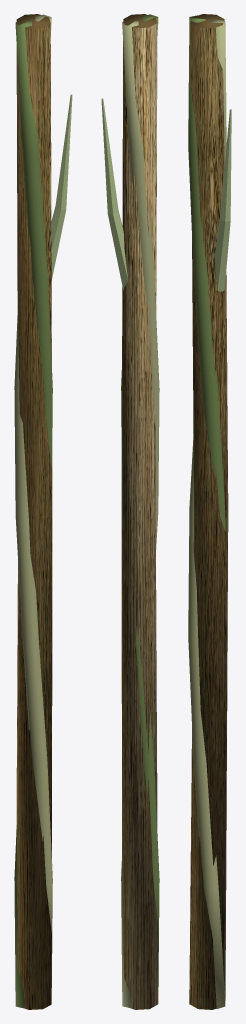
Rendered from root_lash_segment.glb.
3 renders of one model, left to right at view 1: azimuth 30°, elevation 25°; view 2: azimuth 210°, elevation 25°; view 3: azimuth 330°, elevation 25°, orthographic.
Visible parts, largest first — view 1: RootLashSegment; view 2: RootLashSegment; view 3: RootLashSegment.
Part boxes in pixels (left/top/right/bottom): RootLashSegment: left=14, top=14, right=72, bottom=1009; RootLashSegment: left=101, top=14, right=159, bottom=1009; RootLashSegment: left=188, top=14, right=231, bottom=1009.
Bounding box in the file's own units: 0.055 × 1.04 × 0.0378.
Materials: 4 (1 with a texture image).
